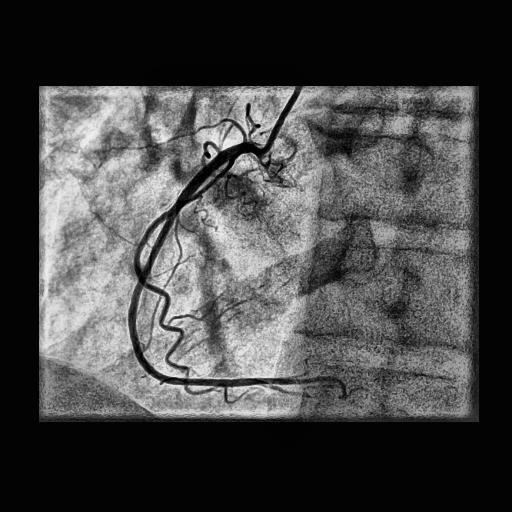rca: (129, 143, 347, 401)
